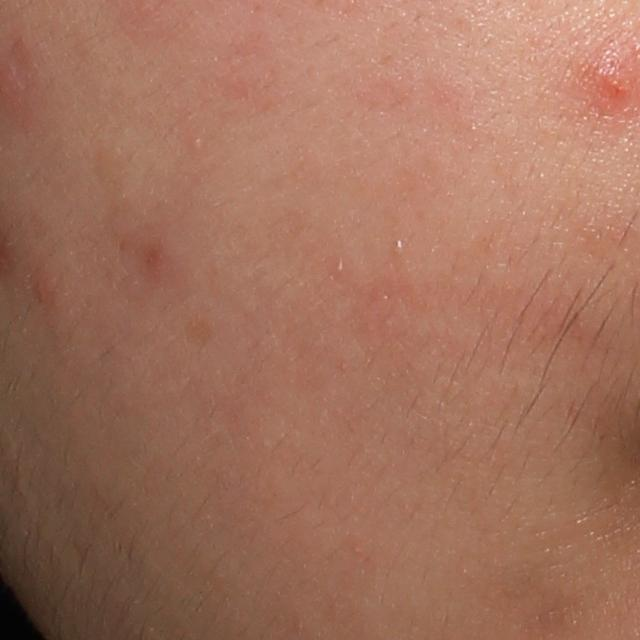comedo: (188, 136, 206, 153)
